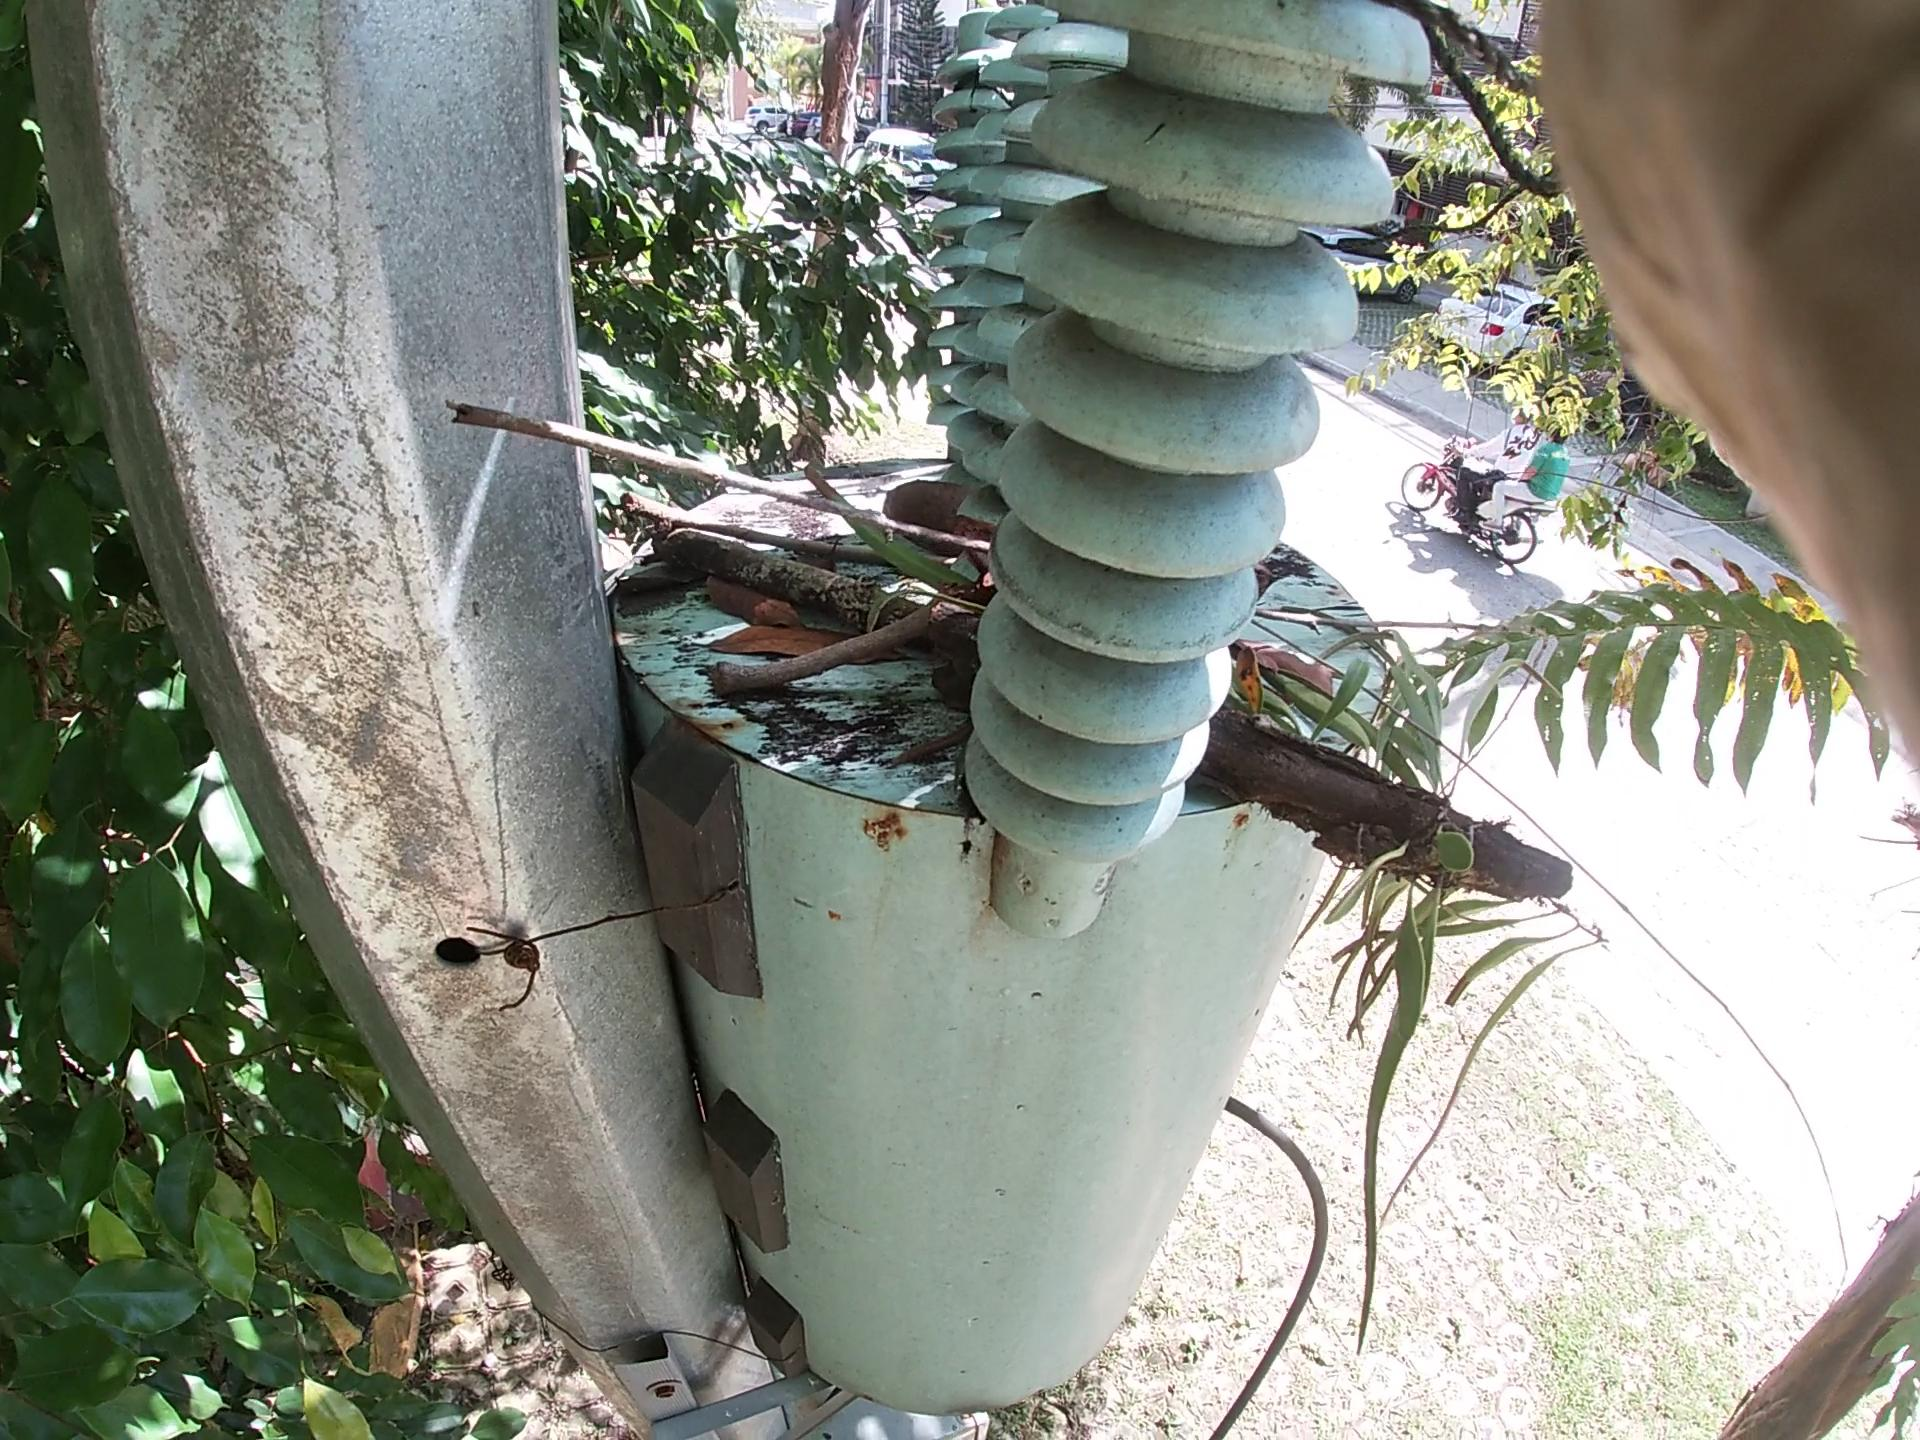branch with leaves: (649, 514, 1574, 905)
leaf: (701, 620, 859, 656), (692, 569, 792, 617)
mahogany fruit: (862, 476, 1268, 656)
tree branch: (443, 396, 1001, 563), (692, 601, 954, 690)
